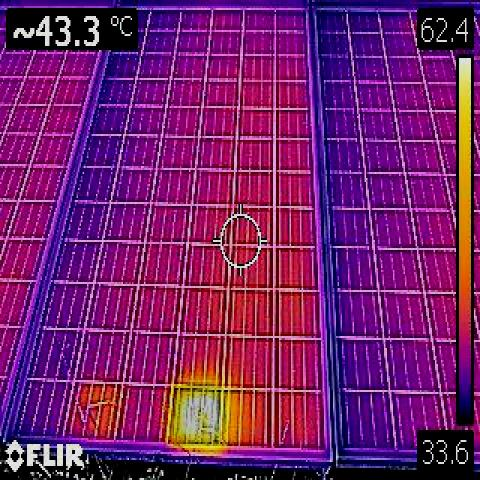fault: (173, 386, 221, 446)
